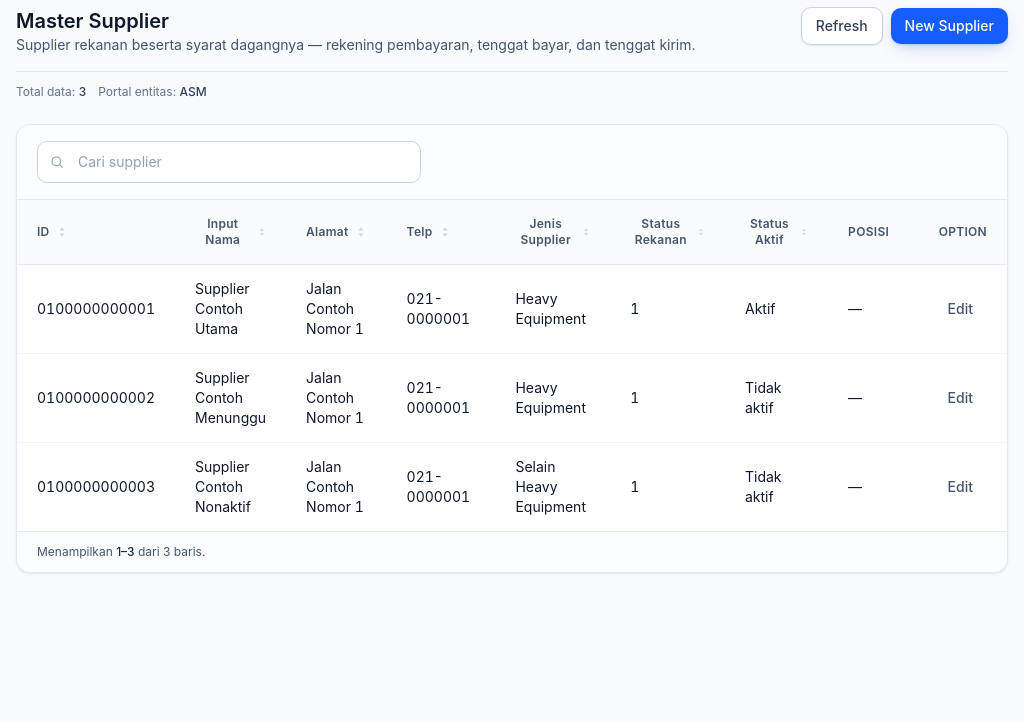
Test: form master supplier › memberi tahu bahwa menonaktifkan berlaku seketika
Check: the text "Supplier Contoh Utama" is shown, box [195,280,250,337]
Click the button "Edit" in the row of "0100000000001". click: coordinates (960, 309)
box: [934,291,987,327]
(page scrolled)
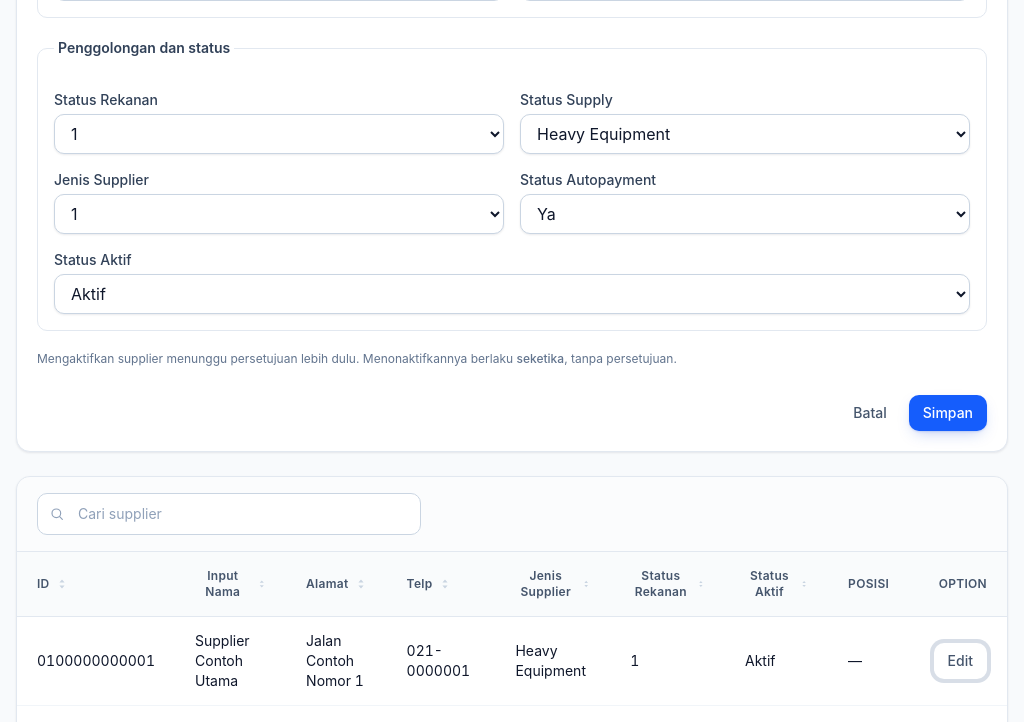
Check: the text "Menonaktifkannya berlaku" is shown, box [37,351,513,366]
